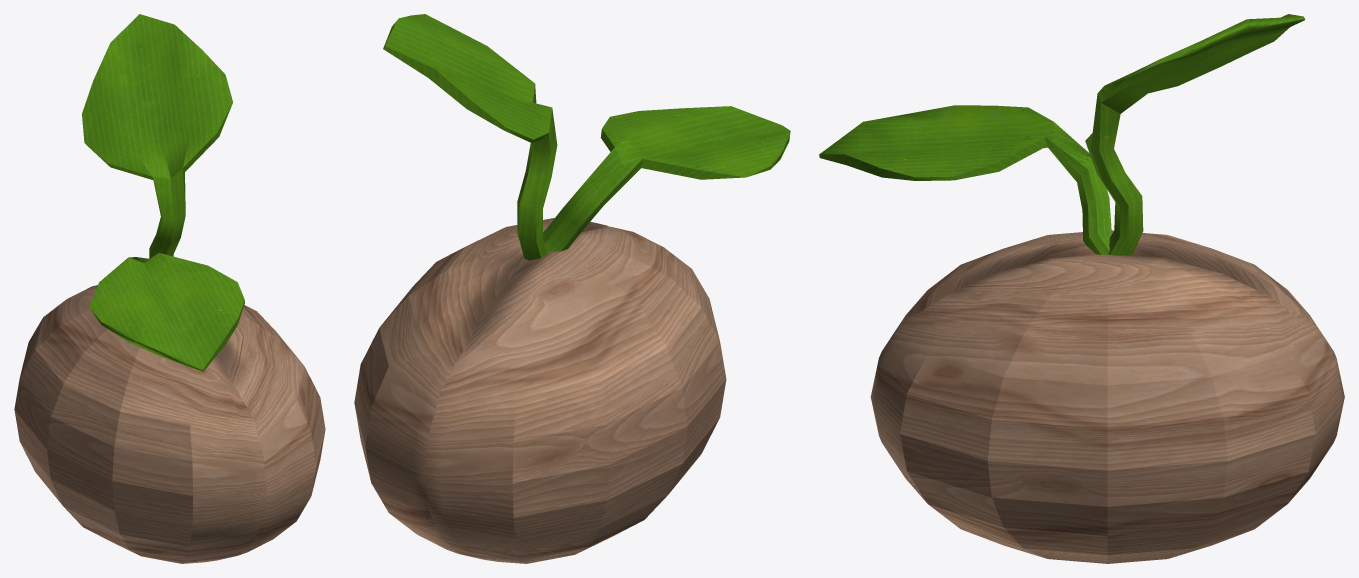
The model's file is Seed.glb.
3 renders of one model, left to right at view 1: azimuth 30°, elevation 25°; view 2: azimuth 150°, elevation 25°; view 3: azimuth 270°, elevation 25°, orthographic. The views are drawn at different scales.
Visible parts, largest first — view 1: Seed; view 2: Seed; view 3: Seed.
Boxes of the visible parts, <box> form: Seed: <box>14,14,325,563</box>; Seed: <box>354,14,790,563</box>; Seed: <box>819,14,1344,563</box>.
Bounding box in the file's own units: 0.2109 × 0.3655 × 0.3088.
Materials: 1 (1 with a texture image).
